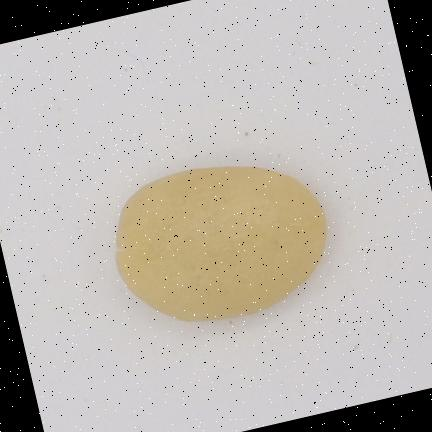parchment: (116, 167, 326, 320)
